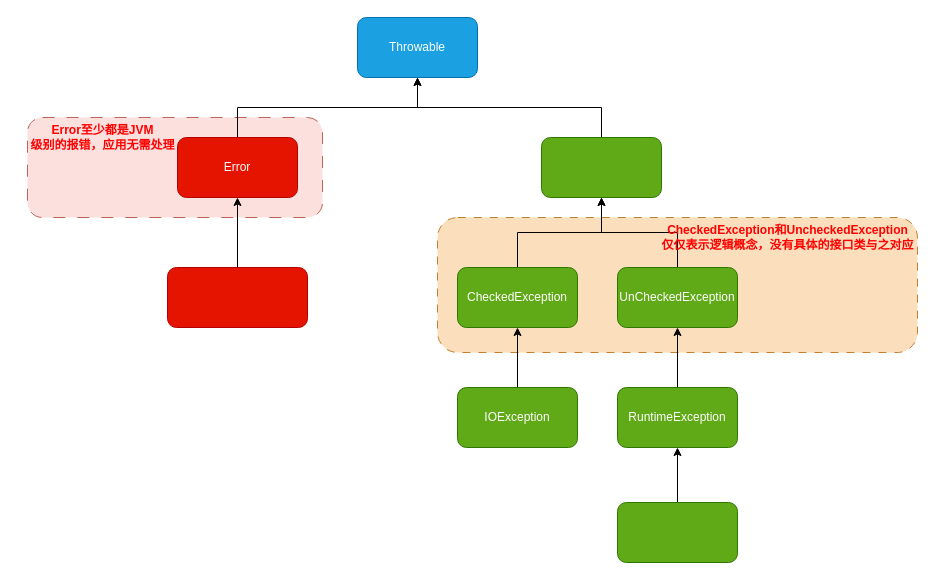
This 944x580 diagram has some shape labels left out. The centre of each missing label's shape, as x and y in pixels:
"Exception" goes at (601,167).
"NullPointerException" goes at (677,532).
"OutOfMemoryException" goes at (237,297).
